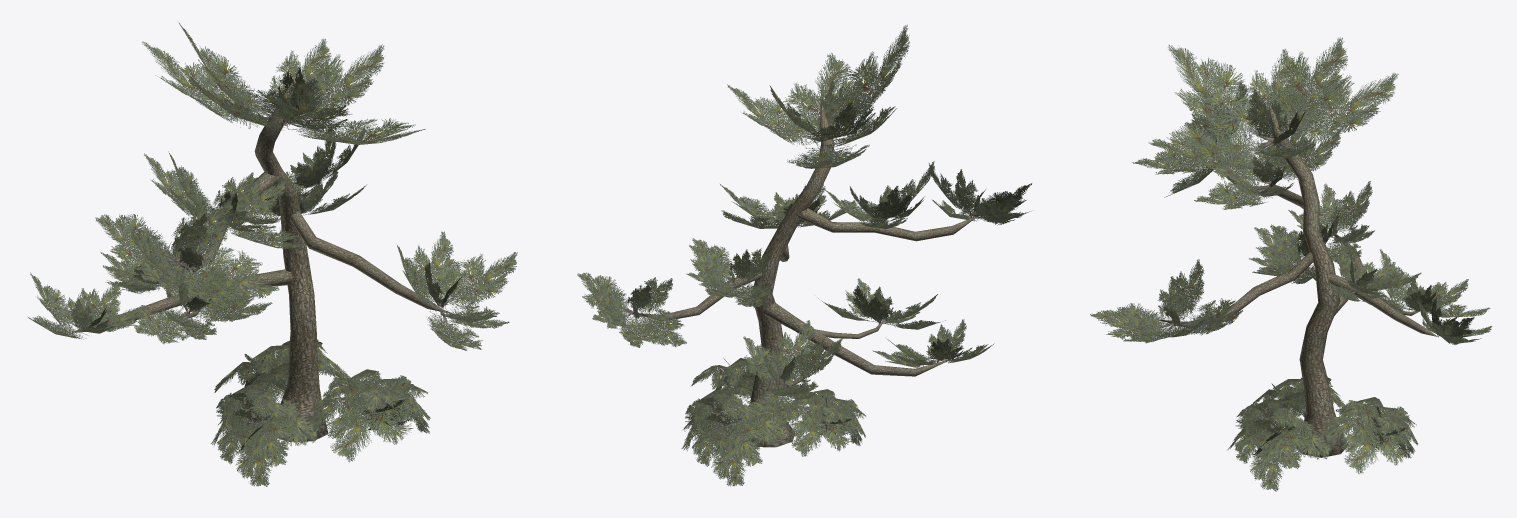
The model's file is PineTree02.fbx.
3 views of the same model, side by side, from view 1: azimuth 30°, elevation 25°; view 2: azimuth 150°, elevation 25°; view 3: azimuth 270°, elevation 25° (orthographic). The views are drawn at different scales.
Visible parts, largest first — view 1: PineTree02; view 2: PineTree02; view 3: PineTree02.
Part boxes in pixels (<box>): PineTree02: <box>28,23,517,486</box>; PineTree02: <box>577,24,1031,486</box>; PineTree02: <box>1090,37,1492,491</box>.
Bounding box in the file's own units: 570 × 621 × 585.
